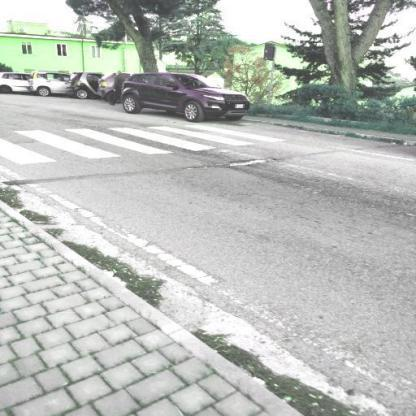crosswalk: (11, 123, 180, 165)
